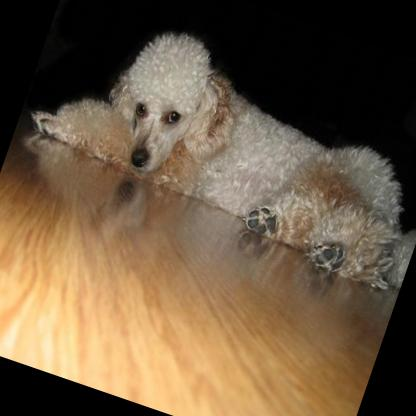miniature_poodle: (15, 0, 416, 297)
